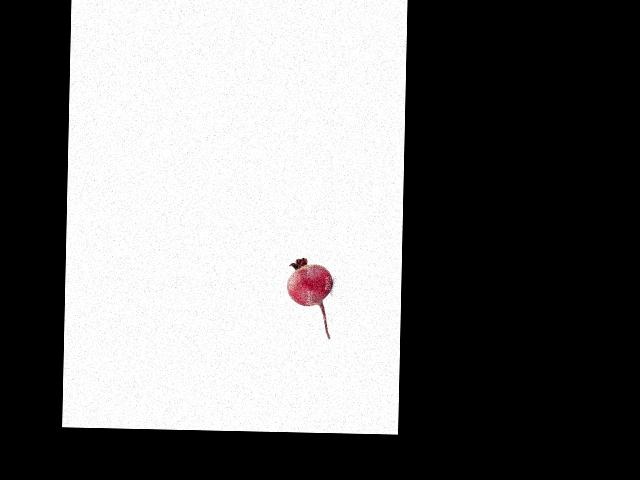beet: (286, 257, 333, 338)
